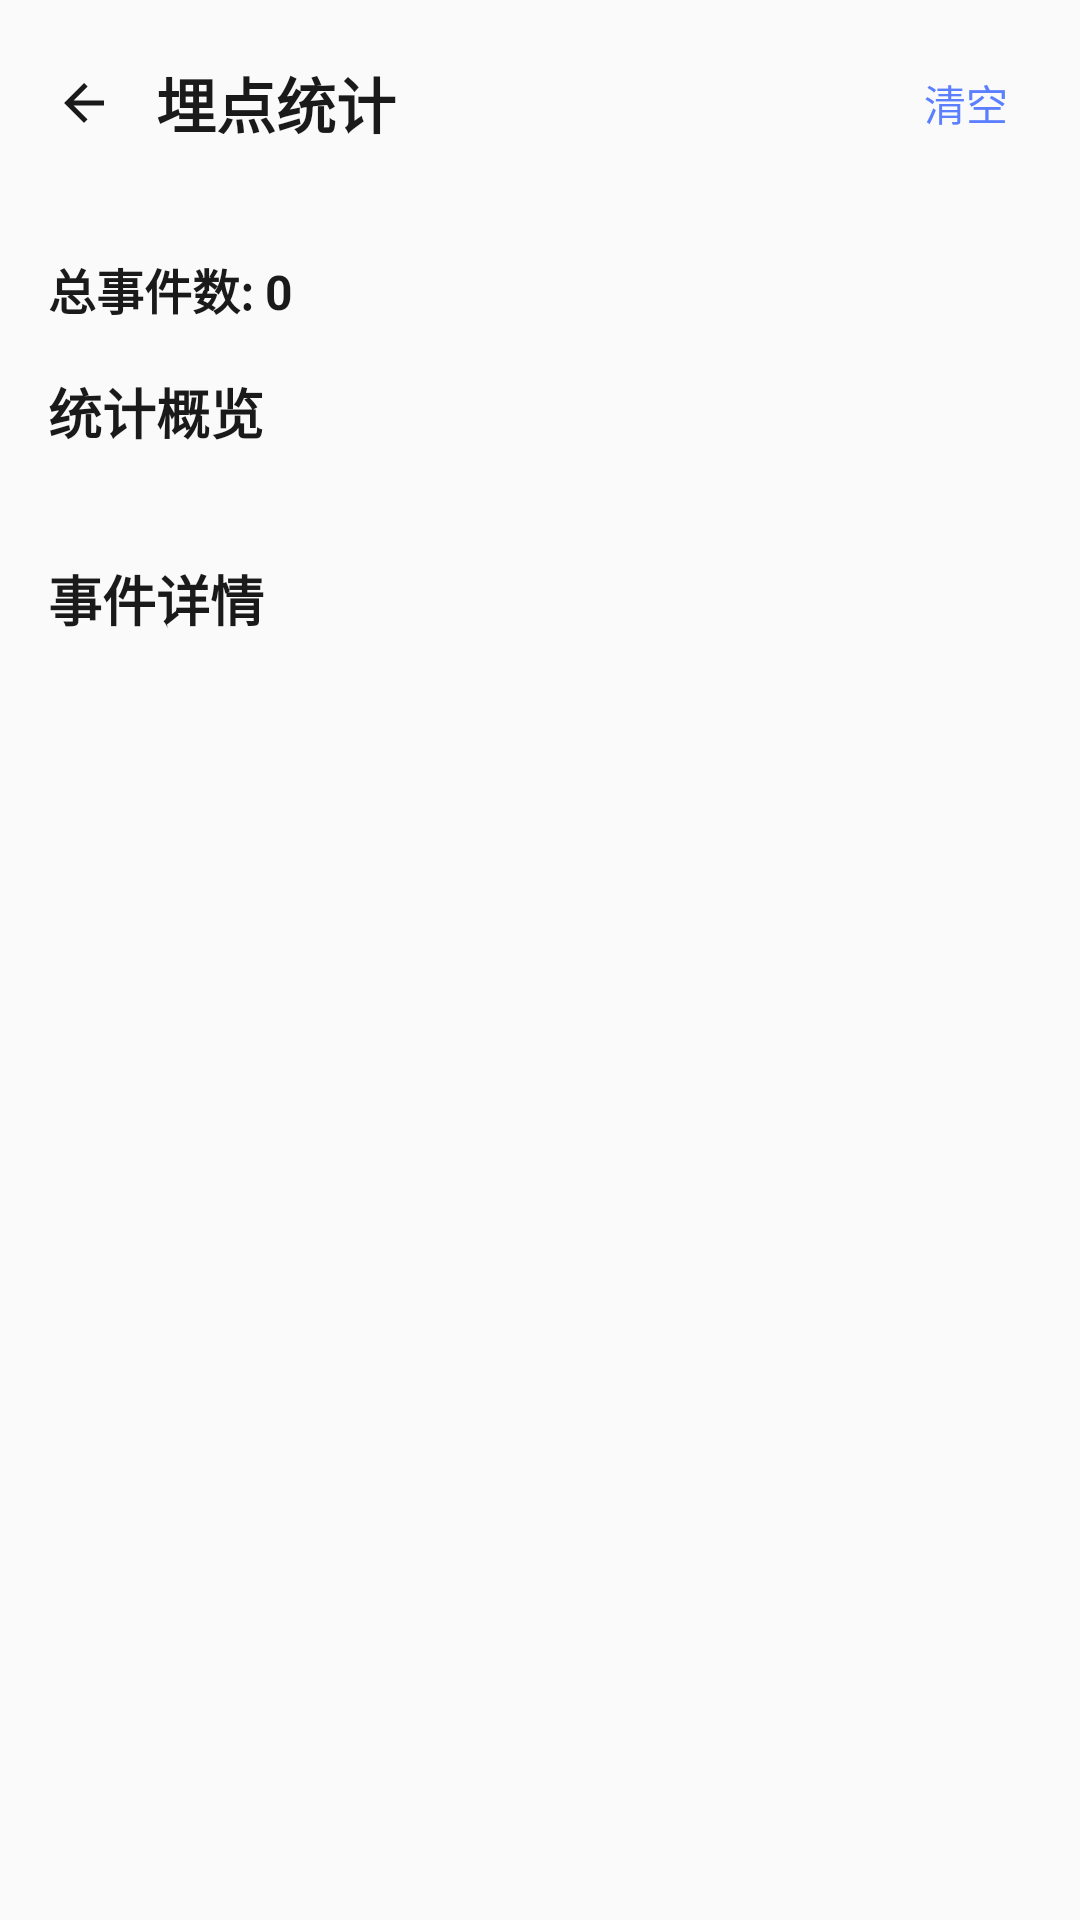

Icon click points for this 1080 x 1920 phone screenshot, format (x=x, y=y):
back: (x=84, y=103)
